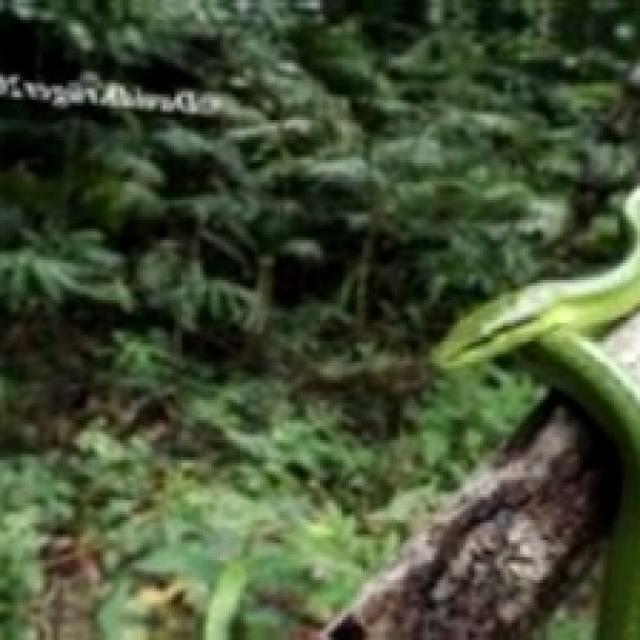red-tailed green ratsnake: (434, 185, 640, 639)
